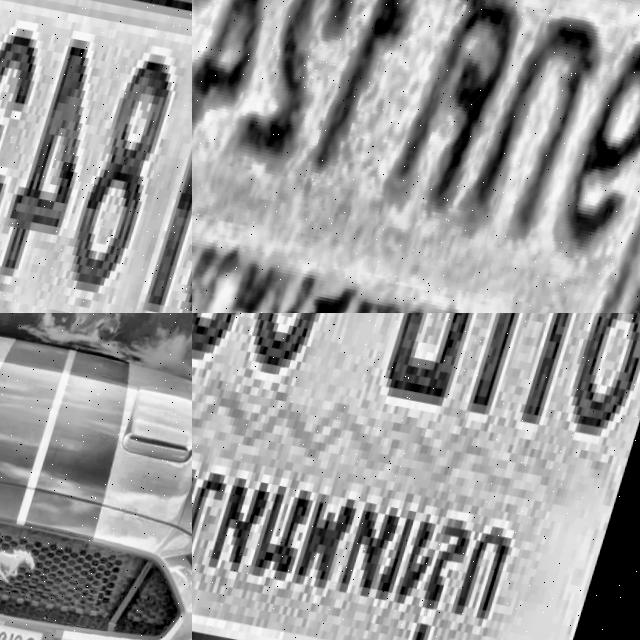license-plate: (192, 313, 640, 640), (192, 0, 640, 313), (0, 0, 192, 313)
